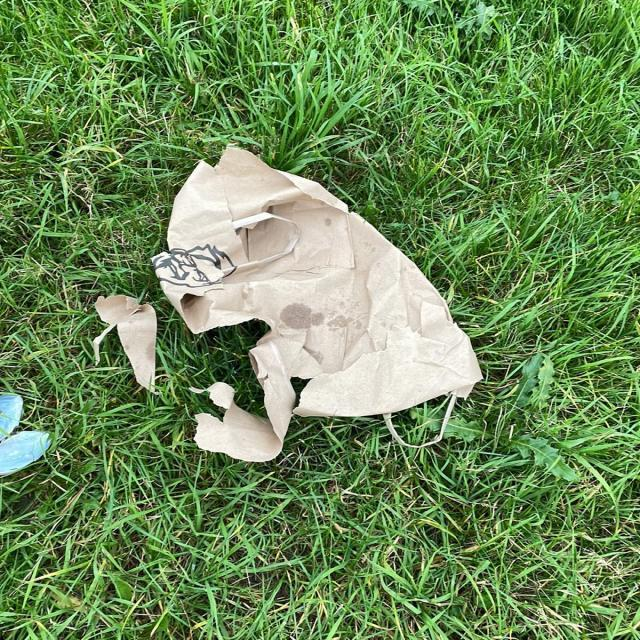Paper: (148, 142, 484, 464)
